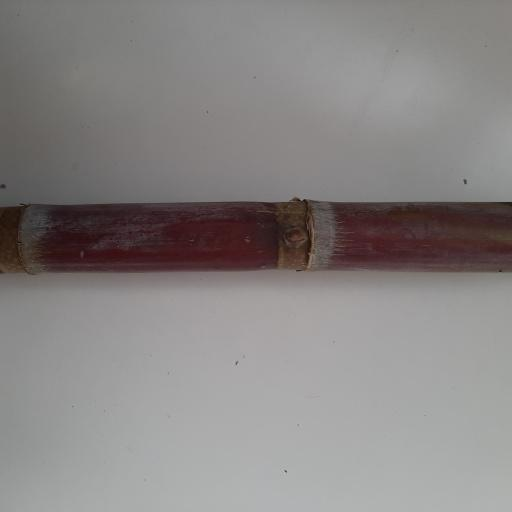Bud: (281, 228, 308, 249)
